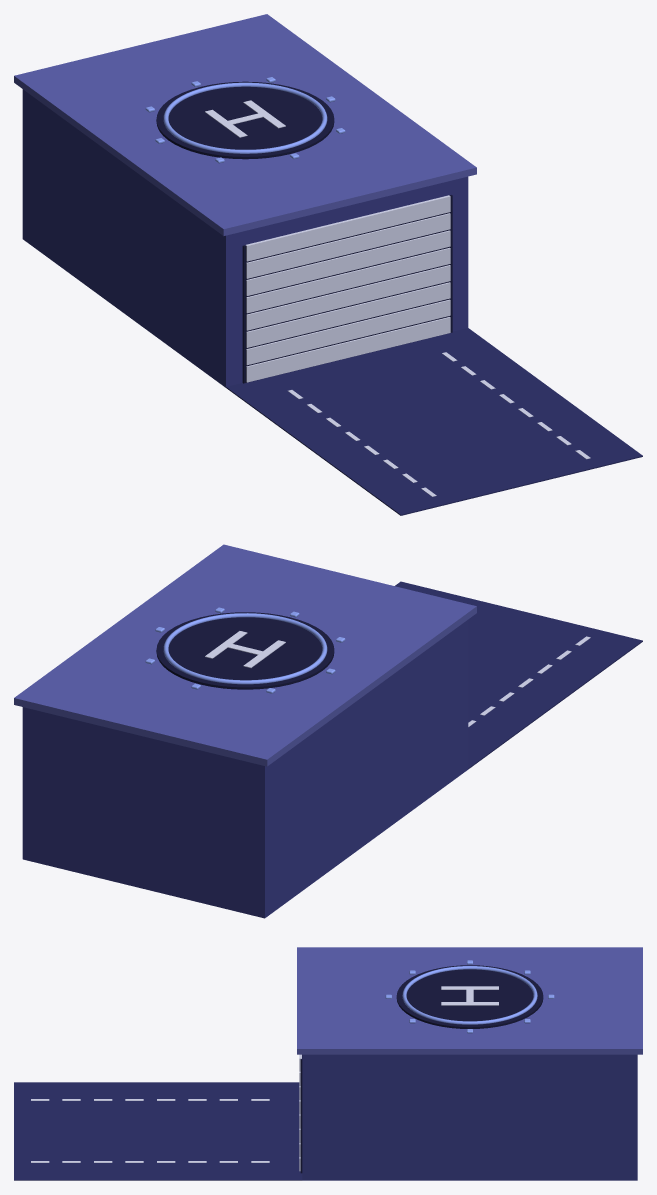
File: garage.glb
The picture shows the model from 3 angles, top to bottom: view 1: azimuth 30°, elevation 25°; view 2: azimuth 150°, elevation 25°; view 3: azimuth 270°, elevation 25°; orthographic projection. The views are drawn at different scales.
Parts seen in each view (by area): view 1: roof, driveway, body, door, pad, opening, padRing, bay, padH; view 2: body, roof, driveway, pad, padRing, padH; view 3: body, roof, driveway, pad, padRing, bay, padH, opening.
Boxes of the visible parts, box(x1,y1,x2,y2) form: roof: box(14, 14, 476, 235); driveway: box(226, 328, 642, 515); body: box(22, 89, 468, 387); door: box(245, 195, 450, 382); pad: box(156, 81, 334, 159); opening: box(242, 195, 452, 383); padRing: box(163, 82, 327, 153); bay: box(288, 352, 590, 496); padH: box(205, 100, 285, 137); body: box(22, 620, 468, 918); roof: box(14, 544, 476, 766); driveway: box(395, 581, 642, 769); pad: box(156, 612, 334, 689); padRing: box(163, 613, 327, 684); padH: box(205, 631, 285, 667); body: box(302, 1054, 637, 1180); roof: box(297, 947, 642, 1054); driveway: box(14, 1082, 302, 1180); pad: box(396, 965, 543, 1028); padRing: box(402, 966, 537, 1024); bay: box(31, 1099, 269, 1162); padH: box(441, 986, 498, 1005); opening: box(300, 1055, 302, 1173).
Bounding box in the file's own units: 4.6 × 2.91 × 12.
